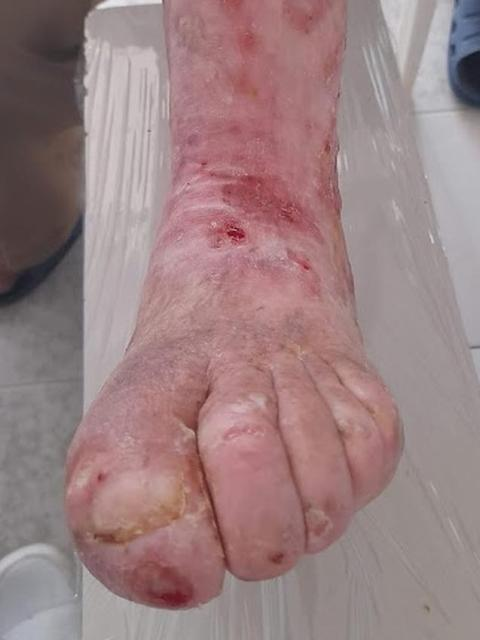wound: (203, 168, 323, 252), (124, 554, 200, 610), (286, 247, 321, 287), (265, 550, 288, 566)
